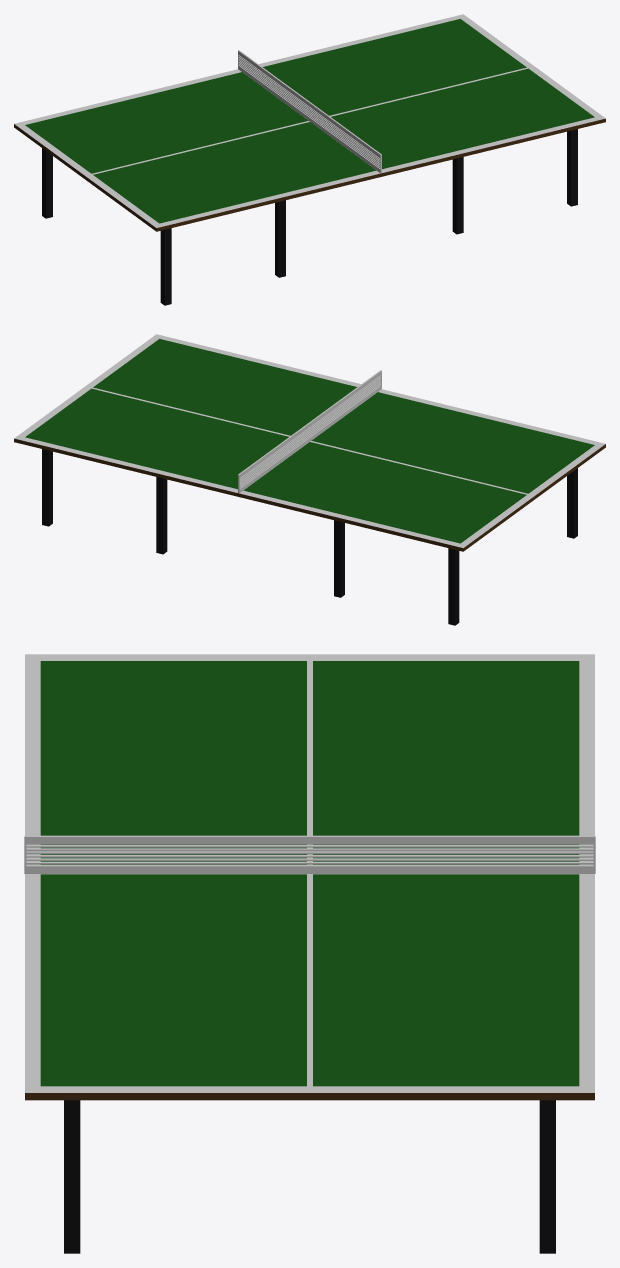
Rendered from PingPong.fbx.
3 views of the same model, one above another, from view 1: azimuth 30°, elevation 25°; view 2: azimuth 150°, elevation 25°; view 3: azimuth 270°, elevation 25° (orthographic). The views are drawn at different scales.
Parts seen in each view (by area): view 1: PingPongTable; view 2: PingPongTable; view 3: PingPongTable.
Boxes of the visible parts, x1,y1,x2,y2 form: PingPongTable: [14, 14, 605, 305]; PingPongTable: [14, 334, 605, 625]; PingPongTable: [24, 654, 595, 1253].
Size of the model in its own units: 1303 by 717 by 299.
